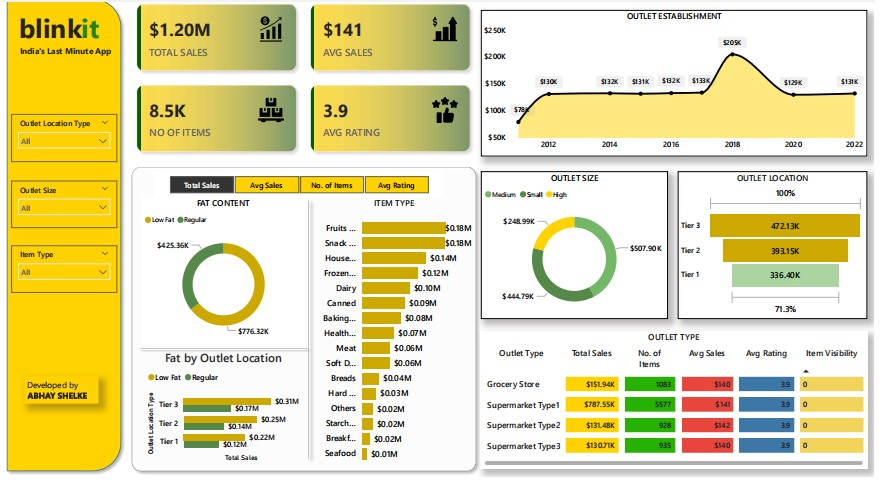

The dashboard page shown, as its layout file describes it:
{"tool":"powerbi","page":{"name":"Page 1","canvas":[1400,800],"ordinal":0},"visuals":[{"type":"shape","box":[0,24.1,200.2,775.3],"z":0},{"type":"textbox","box":[23.4,43.8,159.1,70.1],"z":1000},{"type":"textbox","box":[24.1,100.9,159.6,82.8],"z":2000},{"type":"cardVisual","fields":{"Data":["BlinkIT Grocery Data.Total Sales","BlinkIT Grocery Data.Avg Sales","BlinkIT Grocery Data.No. of Items","BlinkIT Grocery Data.Avg Rating"]},"box":[200.3,23.9,569.6,270.1],"z":3000},{"type":"shape","box":[200.3,294,569.6,505.2],"z":4000},{"type":"donutChart","title":"OUTLET SIZE","fields":{"Y":["BlinkIT Grocery Data.Total Sales"],"Category":["BlinkIT Grocery Data.Outlet Size"]},"box":[769.2,308.6,299.6,237.8],"z":5000},{"type":"slicer","fields":{"Values":["Metrics.Metrics"]},"box":[244.4,310.5,464.8,40.4],"z":6000},{"type":"cardVisual","fields":{"Data":["BlinkIT Grocery Data.Total Sales"]},"box":[304.1,453.1,105.4,61.7],"z":7000},{"type":"clusteredBarChart","title":"Fat by Outlet Location ","fields":{"Y":["BlinkIT Grocery Data.Total Sales"],"Category":["BlinkIT Grocery Data.Outlet Location Type"],"Series":["BlinkIT Grocery Data.Item Fat Content"]},"box":[228.8,594.6,254.4,185.2],"z":8000},{"type":"shape","box":[475.9,347.2,34.9,431.8],"z":9000},{"type":"barChart","title":"ITEM TYPE","fields":{"Y":["BlinkIT Grocery Data.Total Sales"],"Category":["BlinkIT Grocery Data.Item Type"]},"box":[499.8,350.8,260.4,436.6],"z":10000},{"type":"lineChart","title":"OUTLET ESTABLISHMENT","fields":{"Y":["BlinkIT Grocery Data.Total Sales"],"Category":["BlinkIT Grocery Data.Outlet Establishment Year"]},"box":[769.2,49.7,620.2,234.8],"z":11000},{"type":"shape","box":[213.8,585.6,286,12],"z":12000},{"type":"donutChart","title":"FAT CONTENT","fields":{"Y":["BlinkIT Grocery Data.Total Sales"],"Category":["BlinkIT Grocery Data.Item Fat Content"]},"box":[224.3,350.8,263.4,234.8],"z":13000},{"type":"funnel","title":"OUTLET LOCATION","fields":{"Category":["BlinkIT Grocery Data.Outlet Location Type"],"Y":["Sum(BlinkIT Grocery Data.Sales)"]},"box":[1085.4,308.6,304.1,237.8],"z":14000},{"type":"pivotTable","title":"OUTLET TYPE","fields":{"Values":["BlinkIT Grocery Data.Total Sales","BlinkIT Grocery Data.No. of Items","BlinkIT Grocery Data.Avg Sales","BlinkIT Grocery Data.Avg Rating","Min(BlinkIT Grocery Data.Item Visibility)"],"Rows":["BlinkIT Grocery Data.Outlet Type"]},"box":[769.2,566,620.2,221.3],"z":15000},{"type":"slicer","fields":{"Values":["BlinkIT Grocery Data.Item Type"]},"box":[15.1,427.5,170.1,76.8],"z":16000},{"type":"slicer","fields":{"Values":["BlinkIT Grocery Data.Outlet Location Type"]},"box":[15.1,216.8,170.1,76.8],"z":17000},{"type":"slicer","fields":{"Values":["BlinkIT Grocery Data.Outlet Size"]},"box":[15.1,323.7,170.1,76.8],"z":18000},{"type":"textbox","box":[36.1,638.3,118.9,43.7],"z":19000}]}

Visuals, with their boxes on the page's 1400x800 design canvas (x1, y1, x2, y2). These are canvas units, not pixel positions in the 883x480 screenshot, which may show the page scaled, cropped or inside an application window:
shape: (x1=0, y1=24, x2=200, y2=799)
textbox: (x1=23, y1=44, x2=182, y2=114)
textbox: (x1=24, y1=101, x2=184, y2=184)
cardVisual - BlinkIT Grocery Data.Total Sales x BlinkIT Grocery Data.Avg Sales: (x1=200, y1=24, x2=770, y2=294)
shape: (x1=200, y1=294, x2=770, y2=799)
"OUTLET SIZE" donutChart: (x1=769, y1=309, x2=1069, y2=546)
slicer - Metrics.Metrics: (x1=244, y1=310, x2=709, y2=351)
cardVisual - BlinkIT Grocery Data.Total Sales: (x1=304, y1=453, x2=410, y2=515)
"Fat by Outlet Location " clusteredBarChart: (x1=229, y1=595, x2=483, y2=780)
shape: (x1=476, y1=347, x2=511, y2=779)
"ITEM TYPE" barChart: (x1=500, y1=351, x2=760, y2=787)
"OUTLET ESTABLISHMENT" lineChart: (x1=769, y1=50, x2=1389, y2=284)
shape: (x1=214, y1=586, x2=500, y2=598)
"FAT CONTENT" donutChart: (x1=224, y1=351, x2=488, y2=586)
"OUTLET LOCATION" funnel: (x1=1085, y1=309, x2=1390, y2=546)
"OUTLET TYPE" pivotTable: (x1=769, y1=566, x2=1389, y2=787)
slicer - BlinkIT Grocery Data.Item Type: (x1=15, y1=428, x2=185, y2=504)
slicer - BlinkIT Grocery Data.Outlet Location Type: (x1=15, y1=217, x2=185, y2=294)
slicer - BlinkIT Grocery Data.Outlet Size: (x1=15, y1=324, x2=185, y2=400)
textbox: (x1=36, y1=638, x2=155, y2=682)
